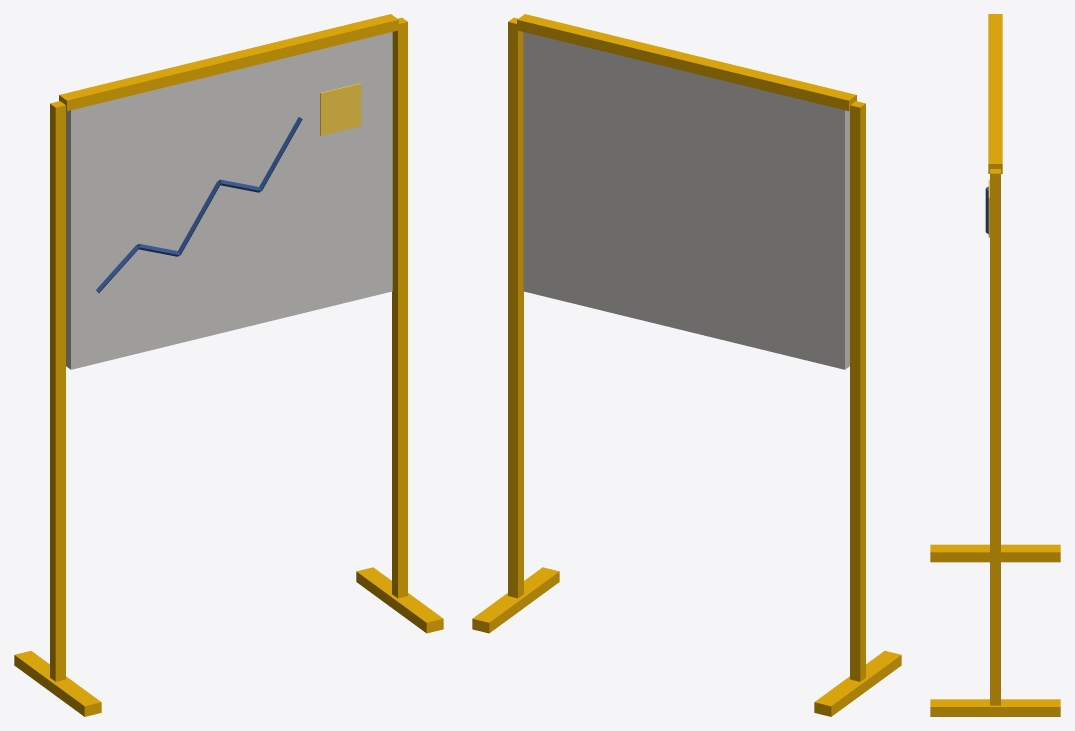
The model's file is station_buffer_ausstattung_2_1.glb.
The picture shows the model from 3 angles, left to right: view 1: azimuth 30°, elevation 25°; view 2: azimuth 150°, elevation 25°; view 3: azimuth 270°, elevation 25°; orthographic projection. The views are drawn at different scales.
Parts seen in each view (by area): view 1: station_buffer_ausstattung_2_1; view 2: station_buffer_ausstattung_2_1; view 3: station_buffer_ausstattung_2_1.
Part boxes in pixels (x1,y1,x2,y2): station_buffer_ausstattung_2_1: (14, 14, 443, 716); station_buffer_ausstattung_2_1: (472, 14, 901, 716); station_buffer_ausstattung_2_1: (930, 14, 1060, 716).
Size of the model in its own units: 1.06 by 1.66 by 0.36.
